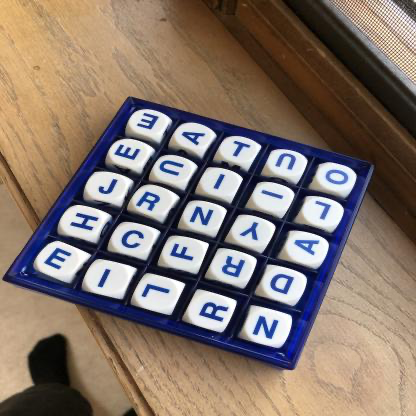a: (287, 233, 329, 264), (175, 123, 214, 151)
c: (113, 224, 155, 255)
d: (263, 269, 306, 302)
e: (38, 243, 82, 278), (110, 140, 148, 168), (130, 111, 167, 136)
f: (163, 237, 206, 271)
h: (62, 208, 104, 238)
i: (86, 262, 129, 295), (201, 169, 242, 198), (255, 184, 293, 214)
j: (87, 173, 127, 201)
l: (135, 277, 181, 312), (304, 198, 344, 228)
n: (247, 311, 293, 346), (184, 202, 223, 231)
o: (317, 164, 357, 192)
r: (189, 295, 236, 329), (211, 252, 254, 284), (133, 186, 172, 217)
t: (222, 138, 260, 163)
u: (268, 150, 308, 177), (155, 156, 193, 183)
y: (233, 217, 273, 248)
